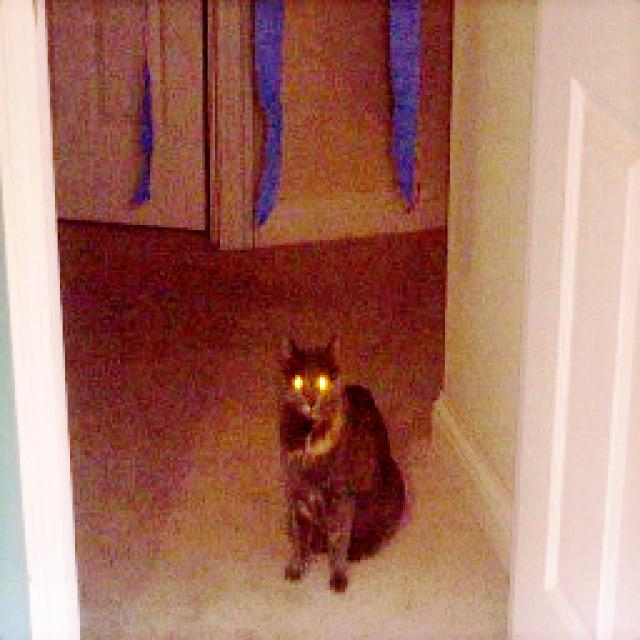cat: (238, 311, 435, 605)
